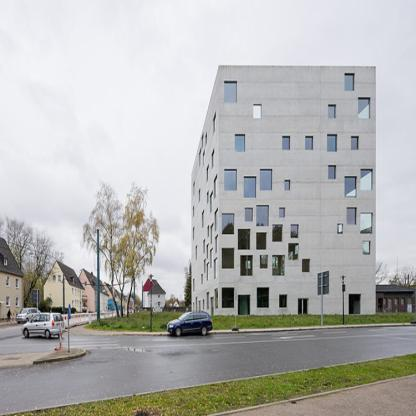Building Outline: (191, 64, 377, 320)
Door: (299, 299, 308, 315)
Facade: (219, 64, 377, 316)
Window: (222, 287, 235, 309), (222, 213, 234, 235), (260, 169, 272, 190), (257, 205, 269, 226), (222, 248, 234, 269), (238, 229, 250, 250), (241, 255, 253, 276), (273, 255, 285, 276), (238, 294, 250, 315), (224, 170, 236, 190), (244, 177, 256, 197), (257, 288, 269, 308), (361, 213, 372, 234), (361, 170, 372, 191), (225, 82, 237, 101), (349, 294, 360, 314), (345, 177, 356, 196), (359, 99, 370, 117), (273, 225, 283, 243), (256, 233, 266, 250), (288, 244, 298, 261), (235, 135, 245, 151), (327, 136, 336, 152), (347, 209, 356, 225), (345, 76, 353, 91), (260, 255, 268, 269), (291, 225, 299, 238), (302, 259, 310, 272), (254, 106, 262, 118), (246, 209, 253, 222), (280, 294, 287, 307), (363, 241, 370, 254), (306, 137, 312, 150), (329, 167, 335, 179), (352, 138, 358, 150), (283, 138, 289, 149), (279, 208, 285, 218), (329, 107, 334, 118), (285, 181, 290, 191), (338, 225, 343, 233)
